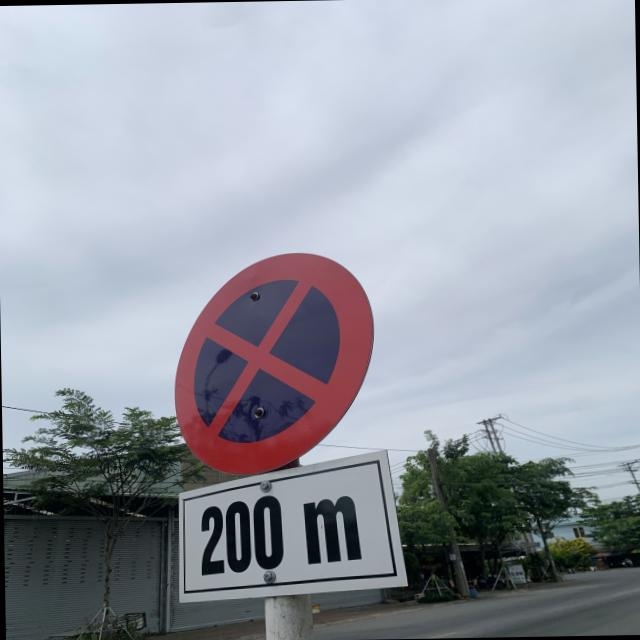Cam_Dung_Va_Dau_Xe: (172, 252, 378, 478)
